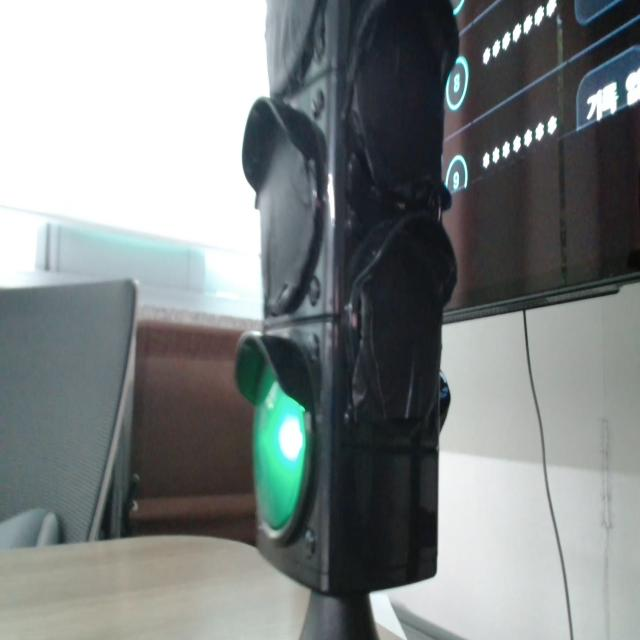green_light: (254, 367, 307, 530)
